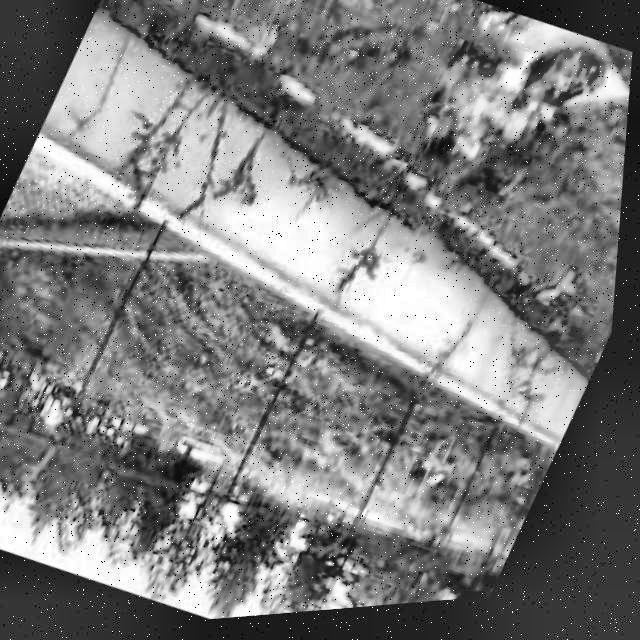Fire: (416, 11, 620, 197)
